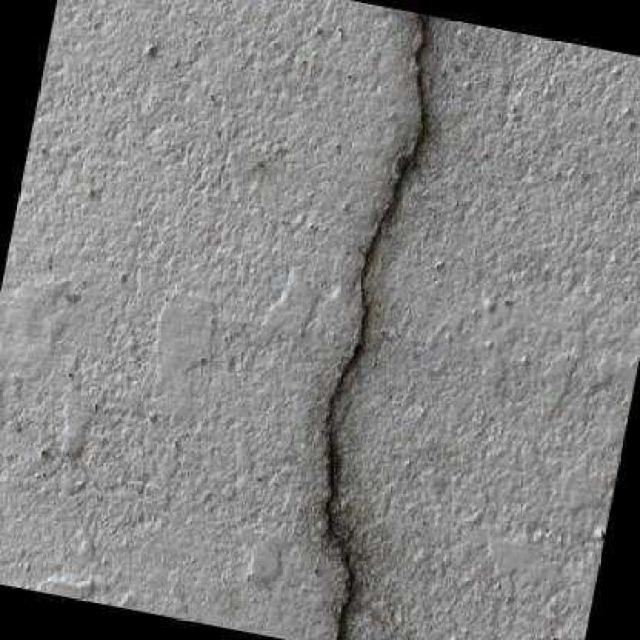D00: (323, 13, 425, 640)
